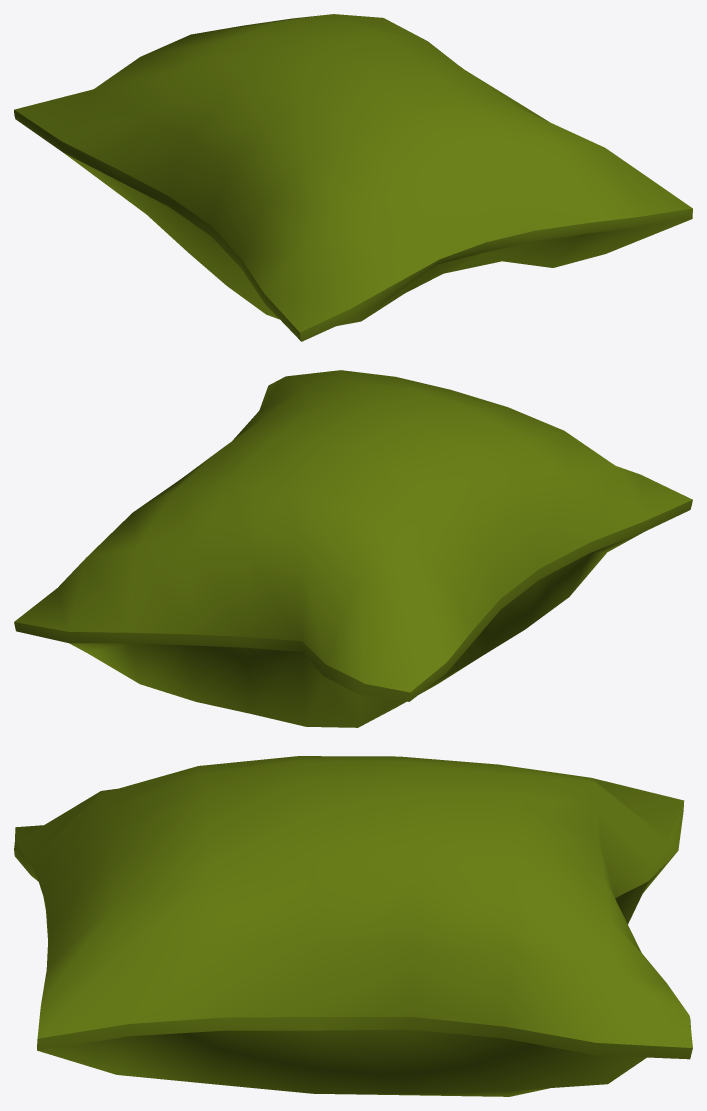
The model's file is RE_PropPillow.FBX.
The picture shows the model from 3 angles, top to bottom: view 1: azimuth 30°, elevation 25°; view 2: azimuth 150°, elevation 25°; view 3: azimuth 270°, elevation 25°; orthographic projection. The views are drawn at different scales.
Parts seen in each view (by area): view 1: RE_PropPillow; view 2: RE_PropPillow; view 3: RE_PropPillow.
Part boxes in pixels (<box>): RE_PropPillow: <box>14,14,692,341</box>; RE_PropPillow: <box>14,370,692,727</box>; RE_PropPillow: <box>14,756,692,1096</box>.
Size of the model in its own units: 30.46 by 16.74 by 36.73.
